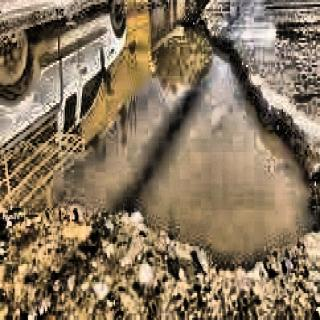pothole: (0, 0, 313, 286)
